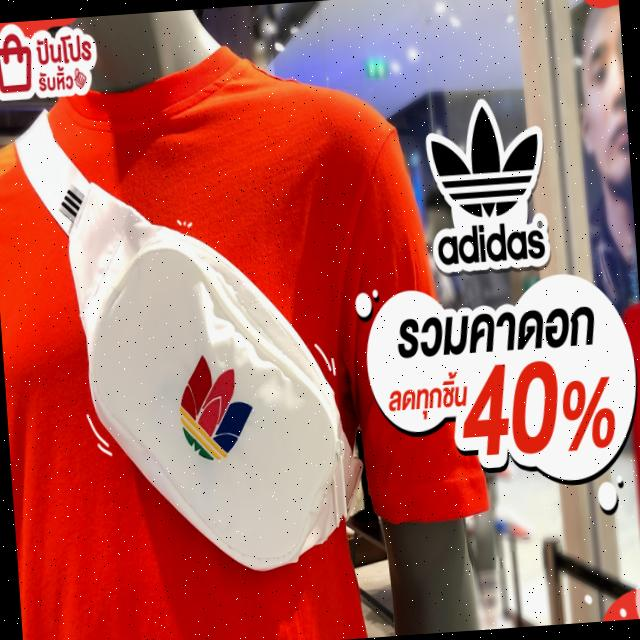Handbag: (62, 170, 364, 592)
